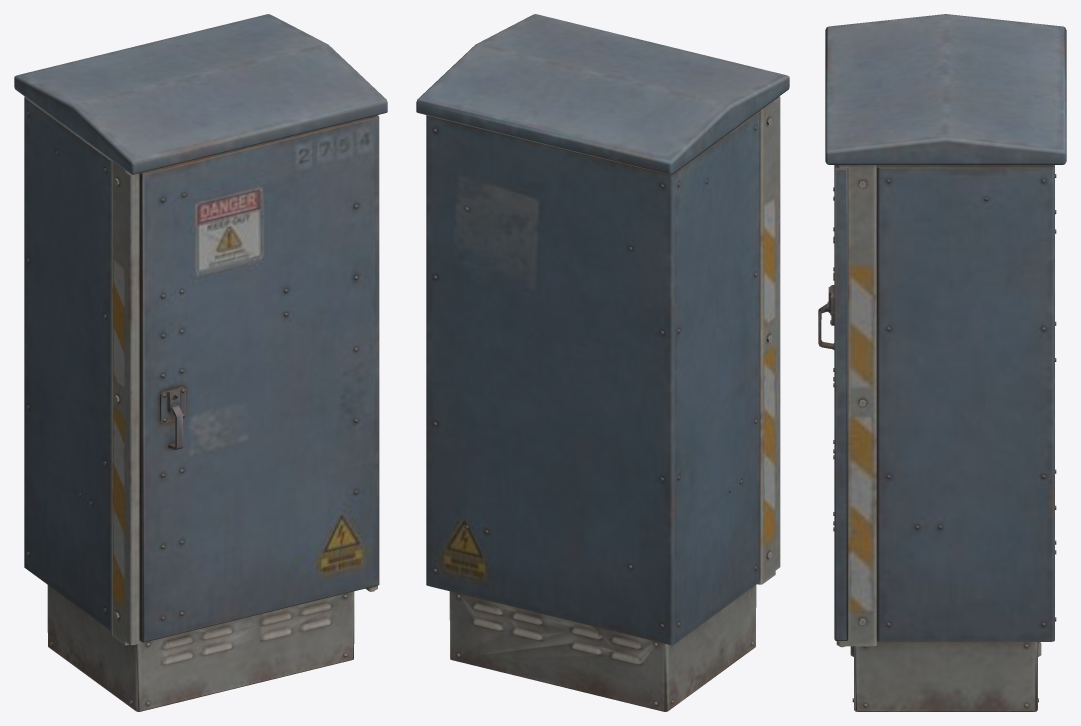
Rendered from utility_box_01.glb.
3 renders of one model, left to right at view 1: azimuth 30°, elevation 25°; view 2: azimuth 150°, elevation 25°; view 3: azimuth 270°, elevation 25°, orthographic.
Parts seen in each view (by area): view 1: utility_box_01_box; view 2: utility_box_01_box; view 3: utility_box_01_box.
Part boxes in pixels (x1,y1,x2,y2): utility_box_01_box: (14, 14, 387, 711); utility_box_01_box: (416, 14, 789, 711); utility_box_01_box: (818, 14, 1066, 711).
Bounding box in the file's own units: 0.52 × 1.12 × 0.432.
Materials: 1 (1 with a texture image).
